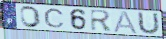6: (69, 8, 88, 31)
A: (113, 10, 139, 35)
C: (43, 8, 66, 29)
O: (19, 5, 42, 29)
R: (89, 9, 114, 32)
U: (137, 11, 161, 35)
